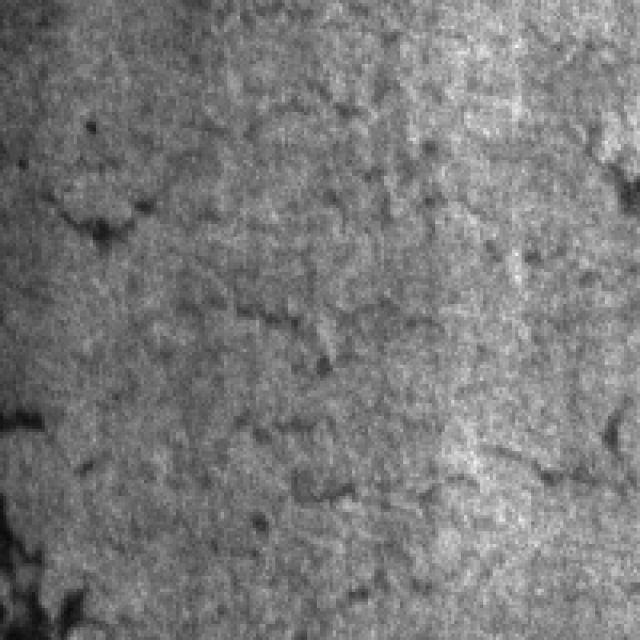crazing: (179, 73, 458, 364), (263, 419, 602, 608)
